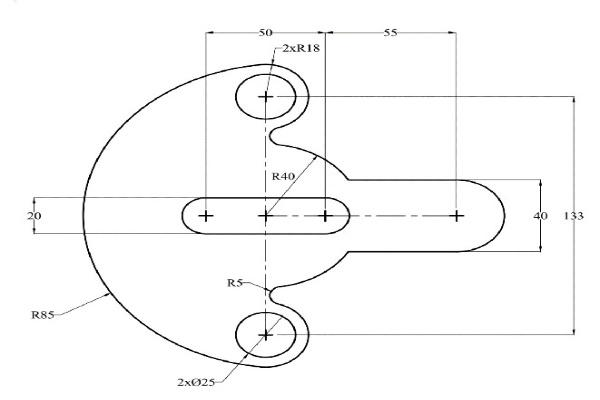dimensions: (282, 41, 323, 59), (173, 374, 219, 389), (27, 305, 57, 322), (266, 168, 295, 183), (382, 21, 400, 44), (562, 207, 585, 223), (257, 23, 276, 42), (223, 276, 245, 290), (23, 208, 46, 221), (532, 210, 551, 223)
